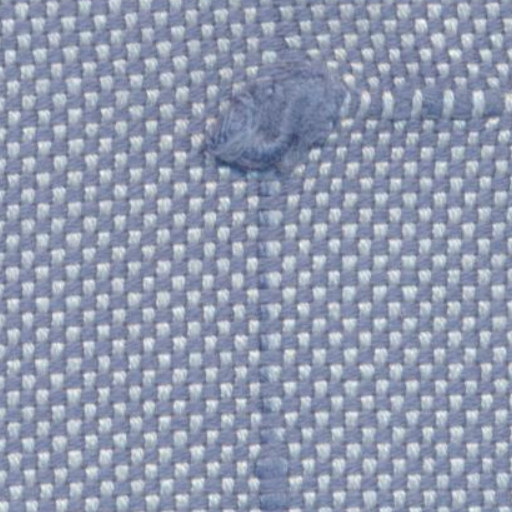MianQiu: (182, 48, 352, 190)
